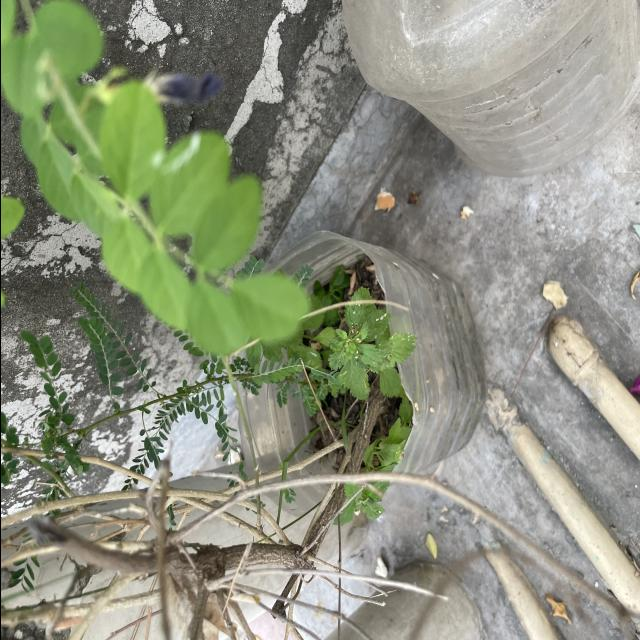Breeding Place: (233, 238, 475, 512)
